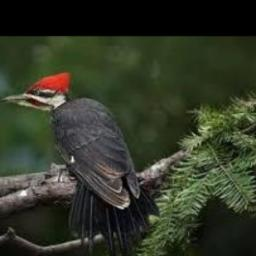Woodpecker: (0, 70, 158, 256)
